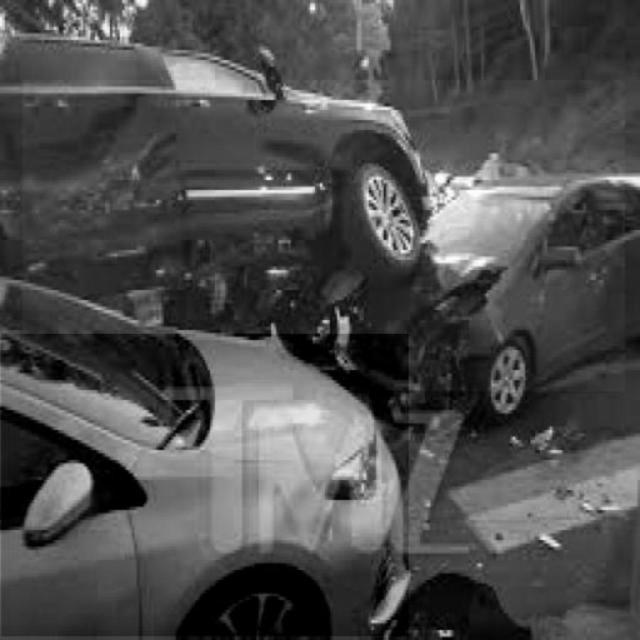accident: (22, 80, 624, 391)
vehicle: (1, 334, 409, 636)
